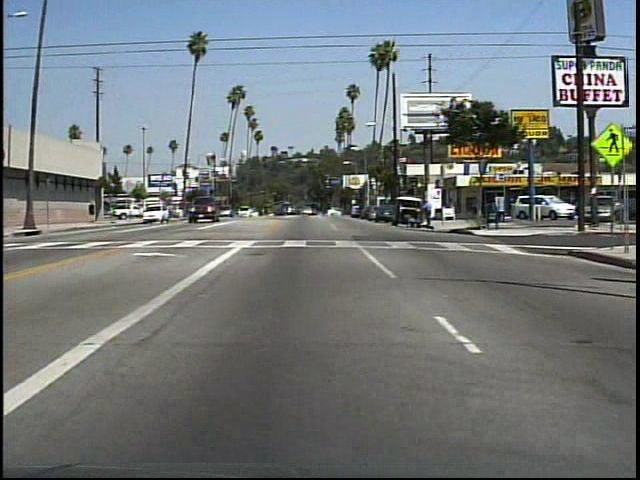person: (423, 197, 436, 230), (467, 193, 480, 221), (405, 212, 422, 230), (88, 199, 97, 227)
